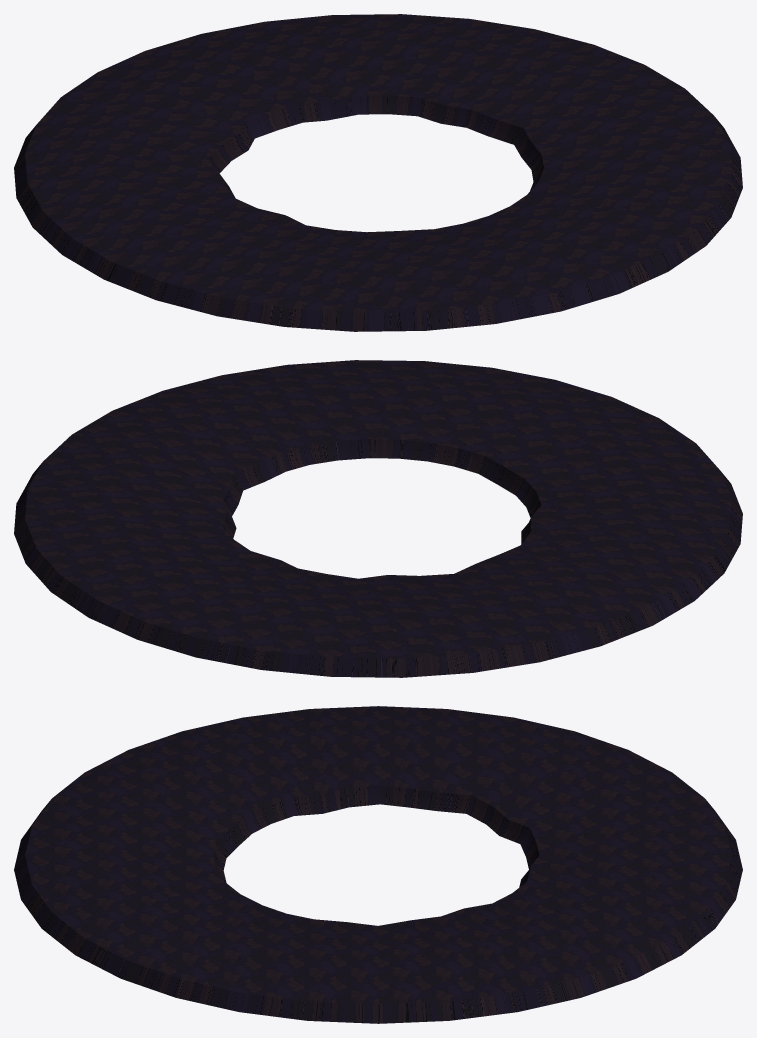
File: BackgroundTerrain.glb
3 views of the same model, one above another, from view 1: azimuth 30°, elevation 25°; view 2: azimuth 150°, elevation 25°; view 3: azimuth 270°, elevation 25° (orthographic).
Parts seen in each view (by area): view 1: BackgroundTerrain; view 2: BackgroundTerrain; view 3: BackgroundTerrain.
Boxes of the visible parts, x1,y1,x2,y2 form: BackgroundTerrain: (14,14,742,331); BackgroundTerrain: (14,360,742,677); BackgroundTerrain: (14,706,742,1023).
Size of the model in its own units: 156 by 5.27 by 156.
1 material, 1 textured.
